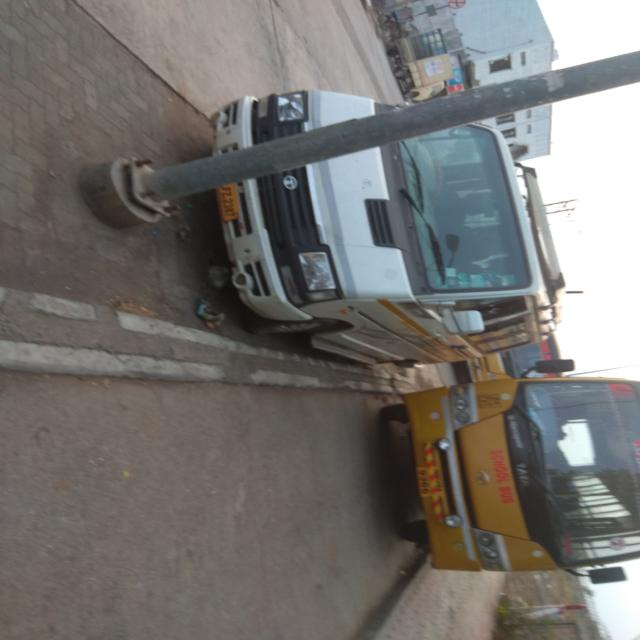Bus: (370, 378, 640, 570)
